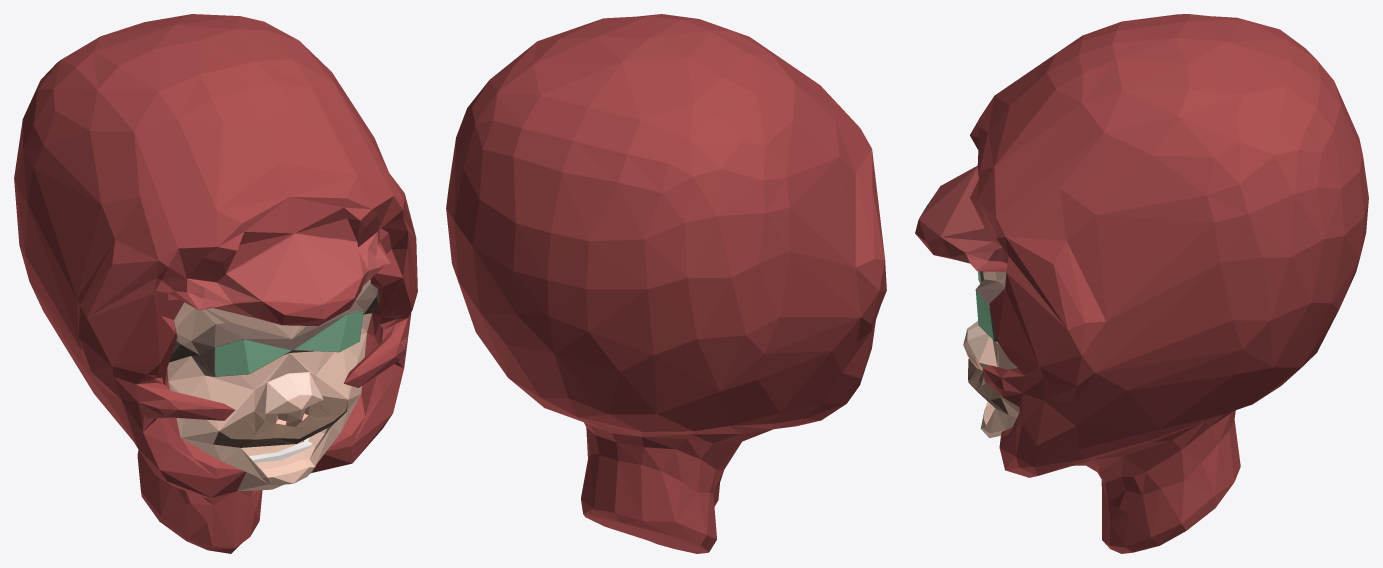
The picture shows the model from 3 angles, left to right: view 1: azimuth 30°, elevation 25°; view 2: azimuth 150°, elevation 25°; view 3: azimuth 270°, elevation 25°; orthographic projection. The views are drawn at different scales.
Visible parts, largest first — view 1: headpart2:Head23:polySurface1, headpart2:Head23:pCube2; view 2: headpart2:Head23:polySurface1; view 3: headpart2:Head23:polySurface1.
Boxes of the visible parts, x1,y1,x2,y2 form: headpart2:Head23:polySurface1: (14, 14, 417, 553); headpart2:Head23:pCube2: (249, 437, 312, 462); headpart2:Head23:polySurface1: (446, 14, 886, 553); headpart2:Head23:polySurface1: (915, 14, 1368, 553).
Size of the model in its own units: 1.4 by 1.98 by 1.59.
